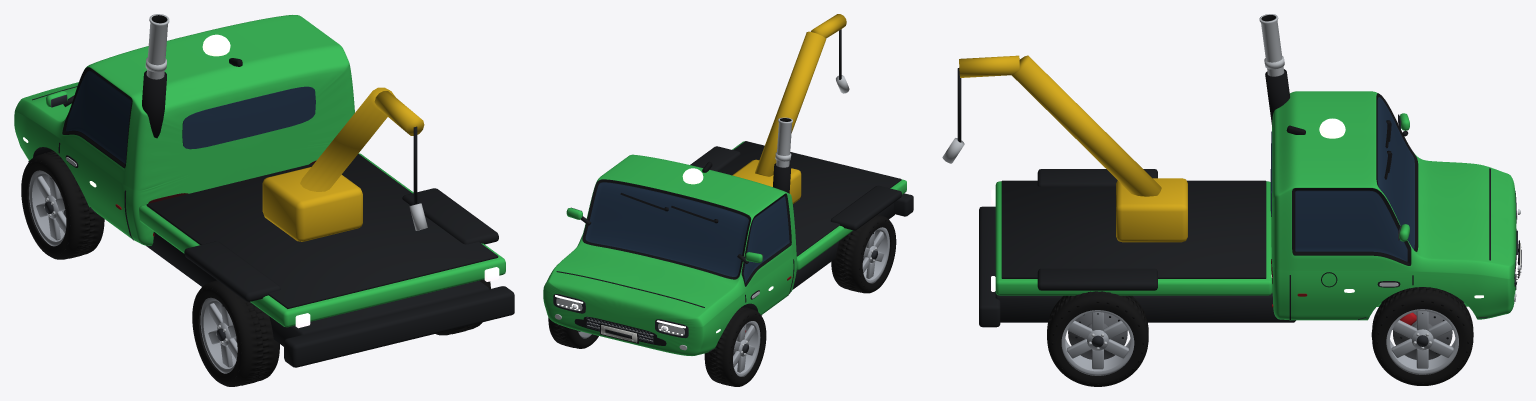
The model's file is hook.glb.
3 views of the same model, side by side, from view 1: azimuth 30°, elevation 25°; view 2: azimuth 150°, elevation 25°; view 3: azimuth 270°, elevation 25° (orthographic). The views are drawn at different scales.
Parts seen in each view (by area): view 1: Body, Wheel_RL, Wheel_FL; view 2: Body, Wheel_RL, Wheel_FL, Wheel_FR; view 3: Body, Wheel_FR, Wheel_RR.
Part boxes in pixels (<box>): Body: <box>14,14,514,367</box>; Wheel_RL: <box>192,280,279,386</box>; Wheel_FL: <box>21,151,104,259</box>; Body: <box>543,14,913,355</box>; Wheel_RL: <box>831,214,896,293</box>; Wheel_FL: <box>704,306,766,386</box>; Wheel_FR: <box>548,317,598,348</box>; Body: <box>942,14,1521,327</box>; Wheel_FR: <box>1371,287,1473,385</box>; Wheel_RR: <box>1047,291,1148,386</box>.
Size of what is drawn, in the model's own units: 2.37 by 2.53 by 4.82.
